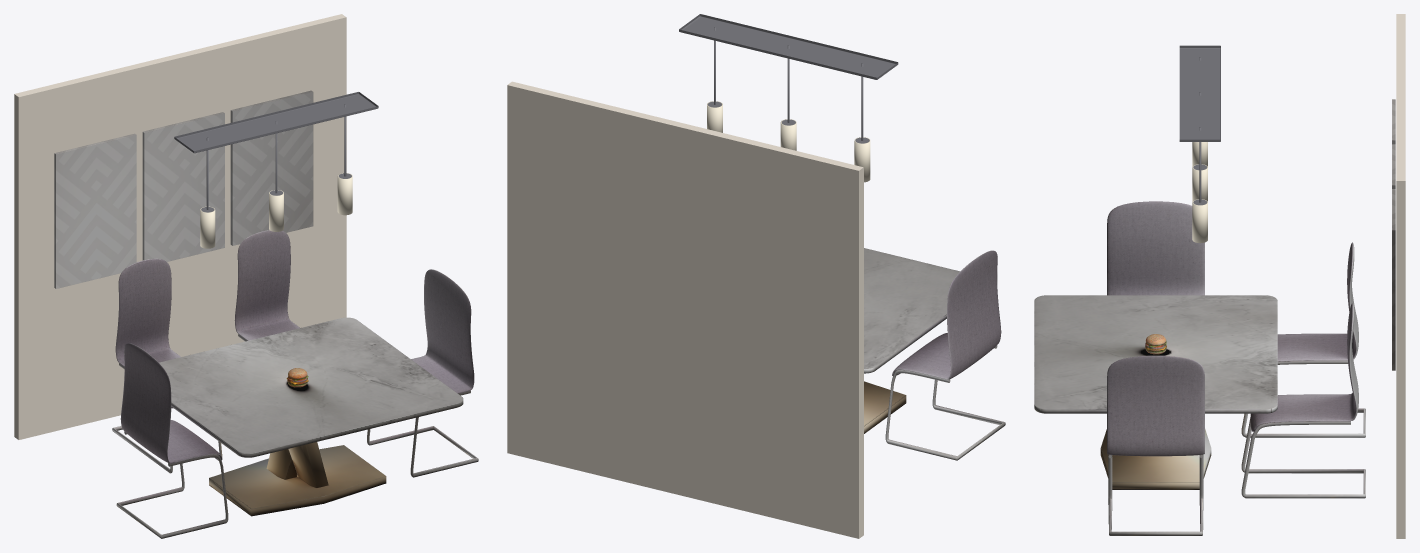
File: modern_dining_room_cheese_burger.glb
The picture shows the model from 3 angles, left to right: view 1: azimuth 30°, elevation 25°; view 2: azimuth 150°, elevation 25°; view 3: azimuth 270°, elevation 25°; orthographic projection. The views are drawn at different scales.
Visible parts, largest first — view 1: IRMOS_Modern_Back_Wall, IRMOS_Modern_Dining_Set, IRMOS_Modern_Paintings, IRMOS_Modern_Ceiling_Light_1, IRMOS_Modern_Ceiling_Light_2; view 2: IRMOS_Modern_Back_Wall, IRMOS_Modern_Dining_Set, IRMOS_Modern_Ceiling_Light_1, IRMOS_Modern_Ceiling_Light_2; view 3: IRMOS_Modern_Dining_Set, IRMOS_Modern_Back_Wall, IRMOS_Modern_Ceiling_Light_1, IRMOS_Modern_Ceiling_Light_2, IRMOS_Modern_Paintings.
Boxes of the visible parts, box(x1,y1,x2,y2) form: IRMOS_Modern_Back_Wall: box(14, 14, 346, 439); IRMOS_Modern_Dining_Set: box(112, 230, 478, 538); IRMOS_Modern_Paintings: box(54, 90, 313, 288); IRMOS_Modern_Ceiling_Light_1: box(174, 92, 378, 212); IRMOS_Modern_Ceiling_Light_2: box(200, 173, 352, 248); IRMOS_Modern_Back_Wall: box(507, 81, 863, 538); IRMOS_Modern_Dining_Set: box(864, 248, 1005, 460); IRMOS_Modern_Ceiling_Light_1: box(679, 14, 898, 143); IRMOS_Modern_Ceiling_Light_2: box(707, 101, 870, 182); IRMOS_Modern_Dining_Set: box(1034, 201, 1365, 535); IRMOS_Modern_Back_Wall: box(1396, 14, 1405, 538); IRMOS_Modern_Ceiling_Light_1: box(1179, 45, 1220, 205); IRMOS_Modern_Ceiling_Light_2: box(1192, 142, 1207, 243); IRMOS_Modern_Paintings: box(1392, 99, 1395, 370).
Bounding box in the file's own units: 2.5 × 2.53 × 2.35.
Materials: 6 (3 with a texture image).
